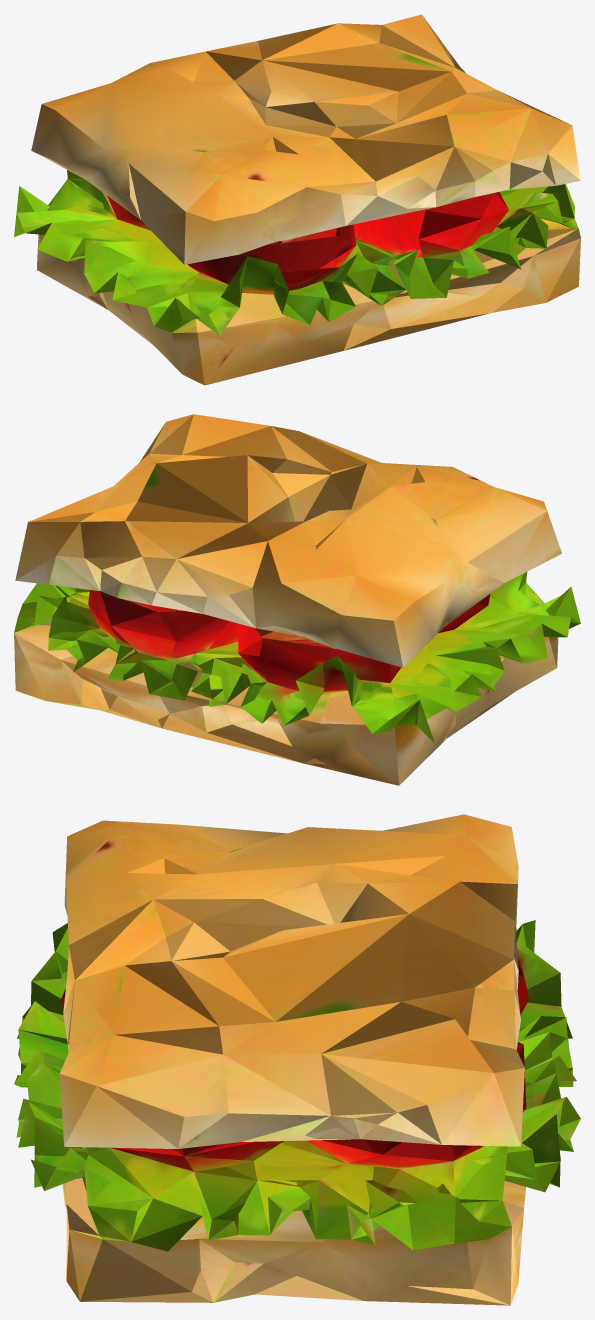
Rendered from sandwich.glb.
3 views of the same model, one above another, from view 1: azimuth 30°, elevation 25°; view 2: azimuth 150°, elevation 25°; view 3: azimuth 270°, elevation 25° (orthographic). The views are drawn at different scales.
Parts seen in each view (by area): view 1: Mesh_0; view 2: Mesh_0; view 3: Mesh_0.
Part boxes in pixels (box(x1,y1,x2,y2)): Mesh_0: box(14, 14, 580, 385); Mesh_0: box(14, 414, 580, 785); Mesh_0: box(14, 814, 580, 1305).
Size of the model in its own units: 15.3 by 6.31 by 11.81.
1 material, 1 textured.
